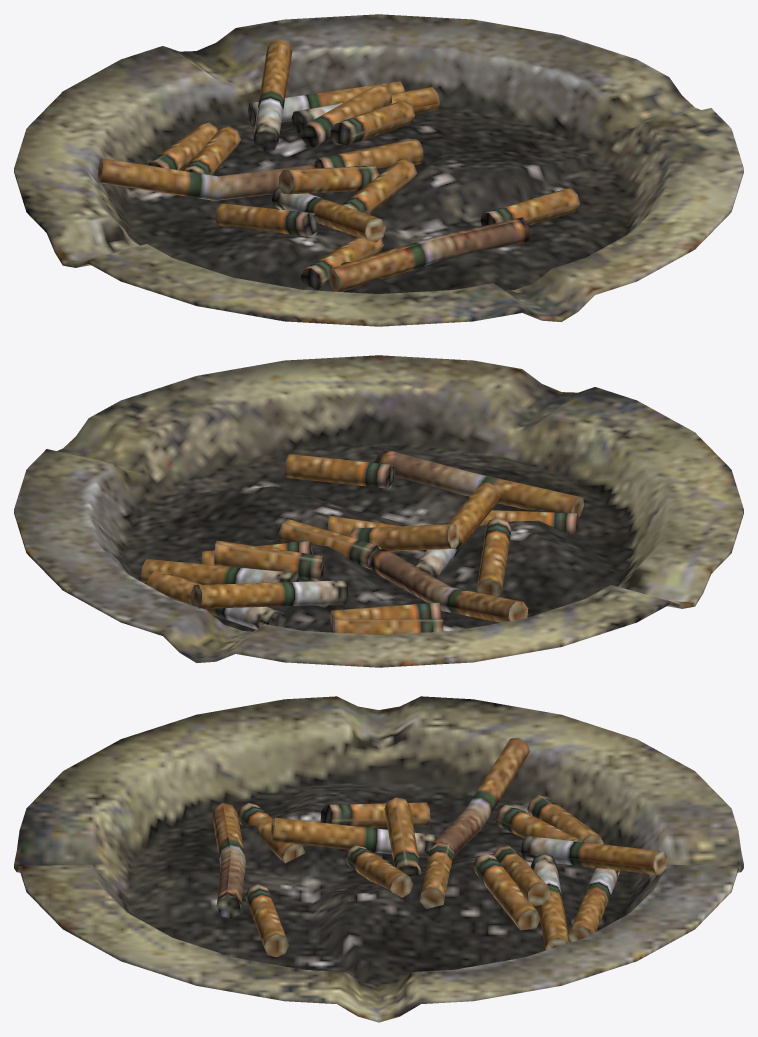
File: ashtray01a.obj
The picture shows the model from 3 angles, top to bottom: view 1: azimuth 30°, elevation 25°; view 2: azimuth 150°, elevation 25°; view 3: azimuth 270°, elevation 25°; orthographic projection.
Visible parts, largest first — view 1: LODGroup_1_MainMesh_1_Submesh_2; view 2: LODGroup_1_MainMesh_1_Submesh_2; view 3: LODGroup_1_MainMesh_1_Submesh_2.
Part boxes in pixels (x1=…): LODGroup_1_MainMesh_1_Submesh_2: x1=14, y1=14, x2=743, y2=326; LODGroup_1_MainMesh_1_Submesh_2: x1=14, y1=355, x2=743, y2=667; LODGroup_1_MainMesh_1_Submesh_2: x1=14, y1=696, x2=743, y2=1022.
Size of the model in its own units: 19.49 by 1.9 by 19.49.
Materials: 1 (1 with a texture image).
